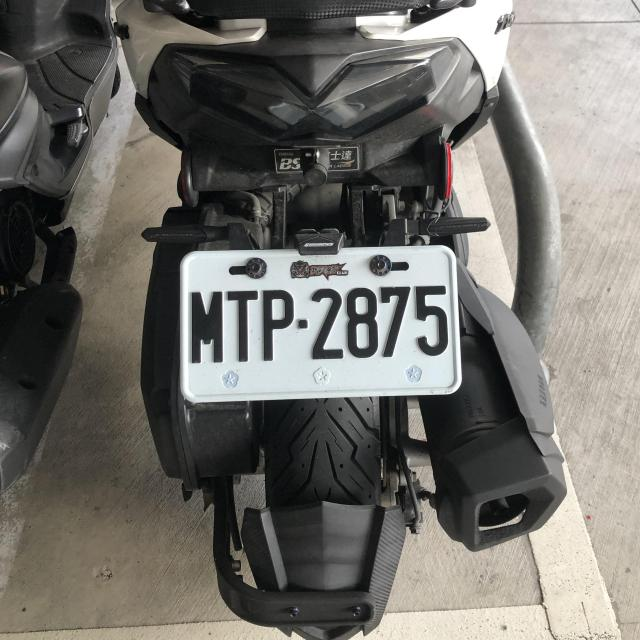W: (175, 244, 462, 401)
